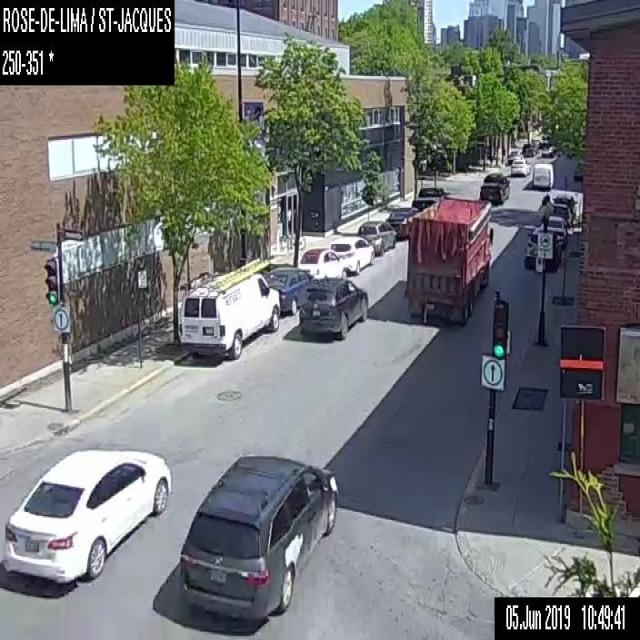vehicle: (177, 453, 338, 620), (2, 442, 173, 582), (403, 196, 493, 324), (177, 256, 280, 358), (300, 278, 370, 336), (261, 266, 322, 314), (524, 225, 561, 272), (328, 235, 375, 272), (299, 248, 346, 281), (358, 220, 397, 252), (385, 208, 422, 237), (480, 170, 510, 202), (540, 214, 566, 246), (411, 187, 452, 206), (532, 161, 555, 188), (552, 192, 576, 217), (552, 202, 572, 227), (511, 157, 530, 175), (544, 231, 546, 232)
